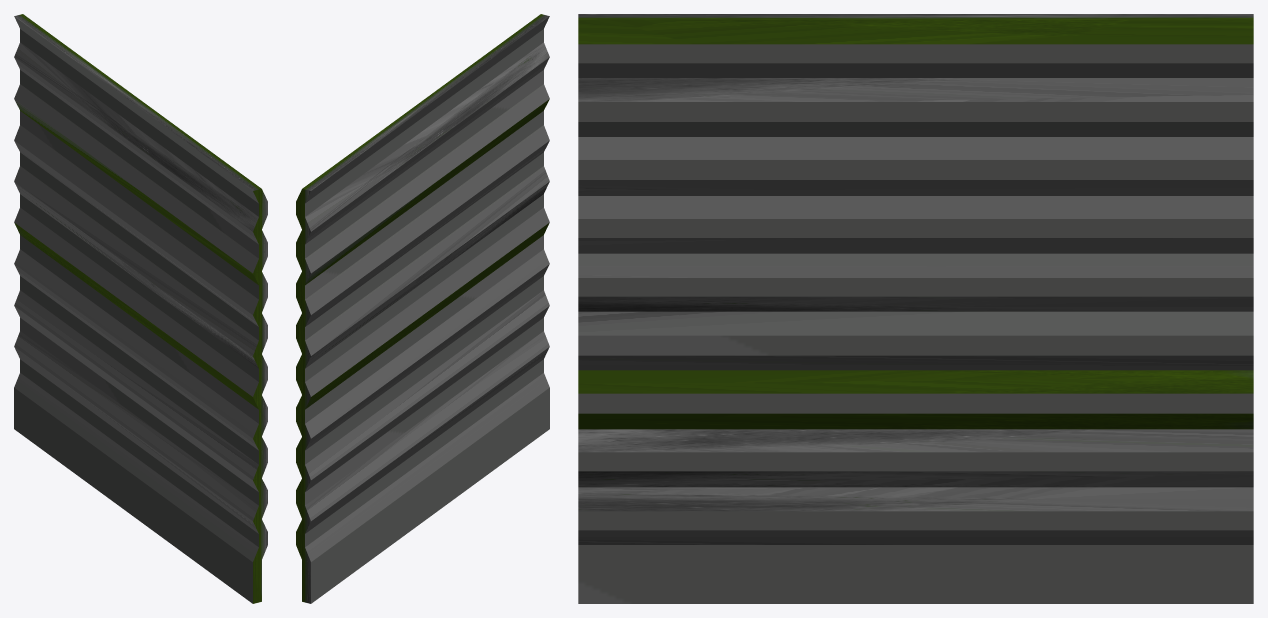
File: Model_Broken_House_Roof_1.fbx
The picture shows the model from 3 angles, left to right: view 1: azimuth 30°, elevation 25°; view 2: azimuth 150°, elevation 25°; view 3: azimuth 270°, elevation 25°; orthographic projection. The views are drawn at different scales.
Parts seen in each view (by area): view 1: 立方体.022; view 2: 立方体.022; view 3: 立方体.022.
Part boxes in pixels (x1,y1,x2,y2): 立方体.022: [14, 14, 267, 603]; 立方体.022: [296, 14, 549, 603]; 立方体.022: [578, 14, 1253, 603].
Size of the model in its own units: 9.12 by 241 by 252.
